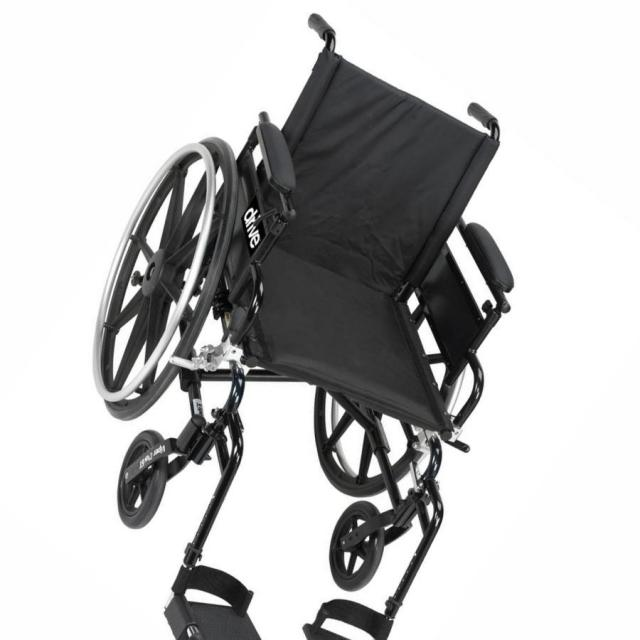wheelchair: (32, 7, 548, 640)
